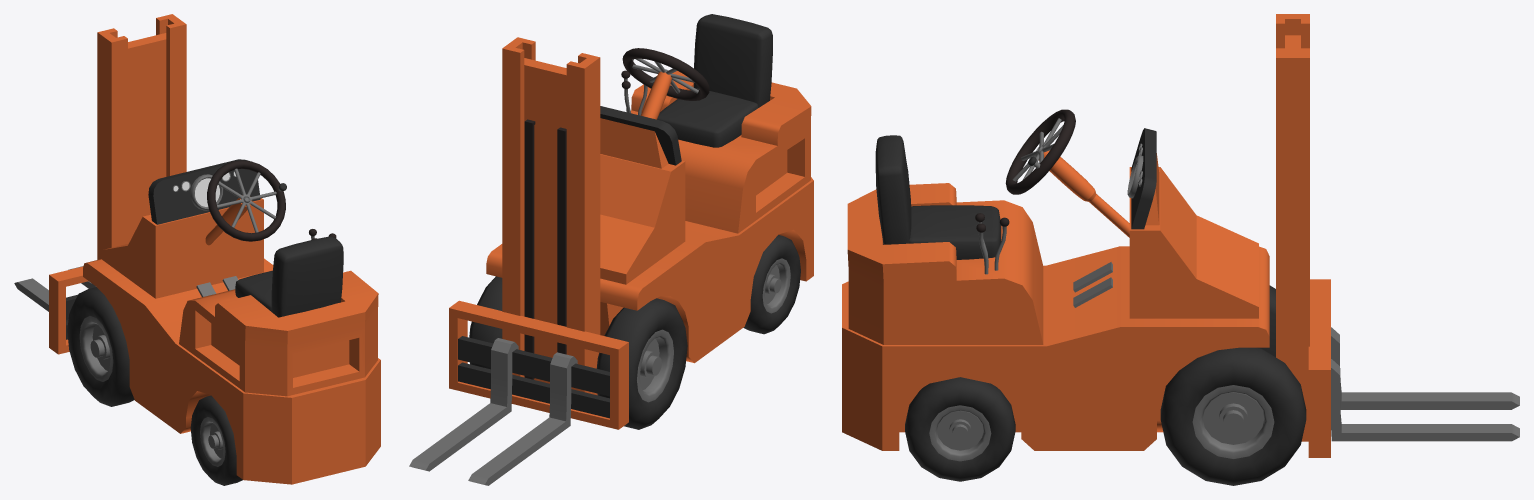
Rendered from forklift mk2.fbx.
3 views of the same model, side by side, from view 1: azimuth 30°, elevation 25°; view 2: azimuth 150°, elevation 25°; view 3: azimuth 270°, elevation 25° (orthographic). The views are drawn at different scales.
Parts seen in each view (by area): view 1: pCube112; view 2: pCube112; view 3: pCube112.
Boxes of the visible parts, x1,y1,x2,y2 form: pCube112: (14,14,380,485); pCube112: (409,14,813,485); pCube112: (842,14,1519,485).
Size of the model in its own units: 132 by 278 by 416.
